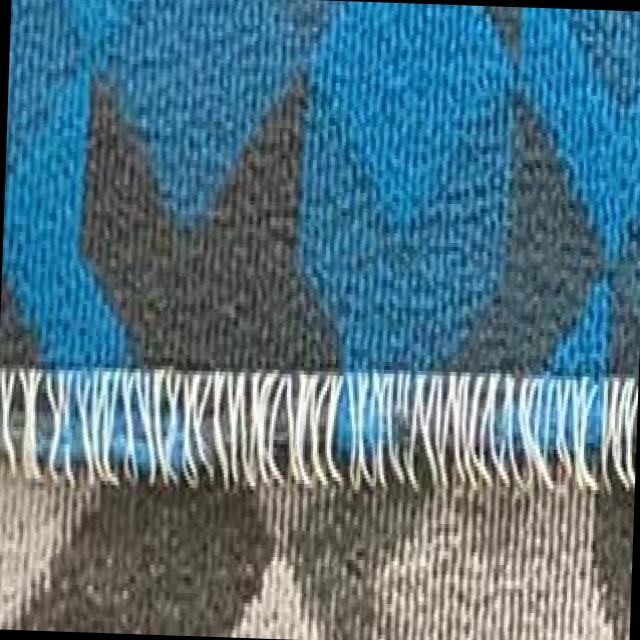gray stitch: (0, 351, 638, 510)
